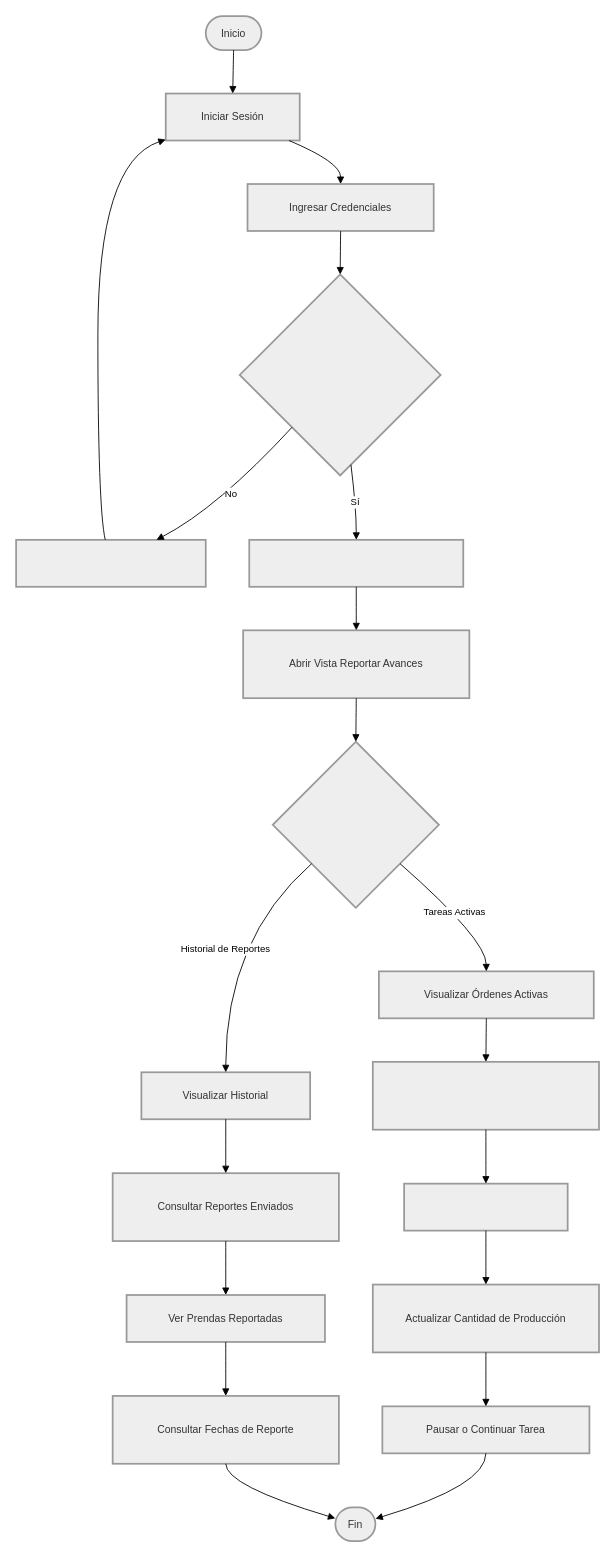
Image size: 614x1556. Some labels were removed from this diagram. The centre of each missing label's shape, as x and y in pixels:
"Consultar Producción Actual" belongs at point (485, 1095).
"Ingresar al Panel Operario" belongs at point (356, 563).
"Recuperar Contraseña" belongs at point (110, 563).
"Reportar Progreso" belongs at point (485, 1206).
"Seleccionar Opción" belongs at point (355, 824).
"¿Credenciales Correctas?" belongs at point (339, 374).
